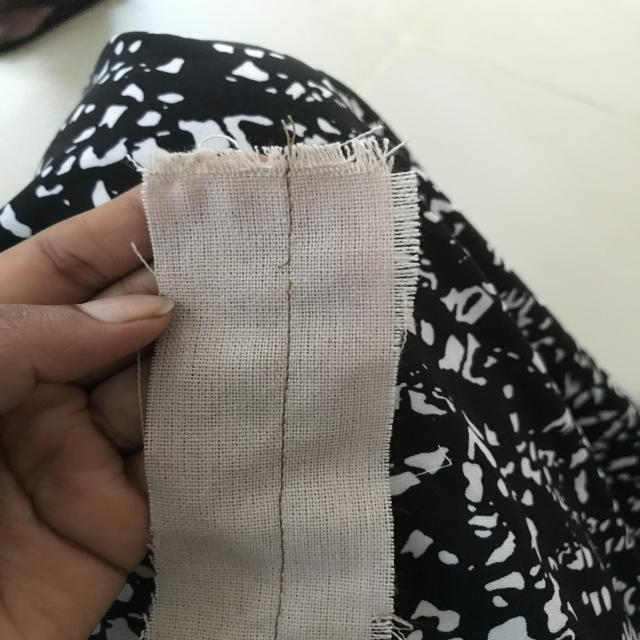broken: (269, 258, 311, 298)
